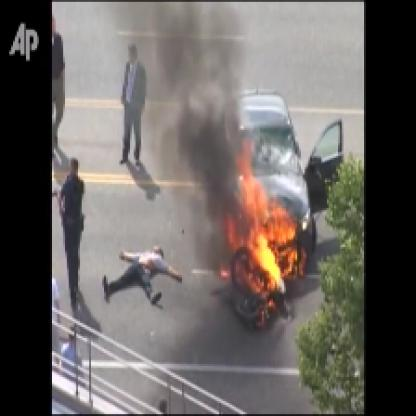Fire: (219, 130, 297, 316)
Smoke: (132, 2, 241, 232)
